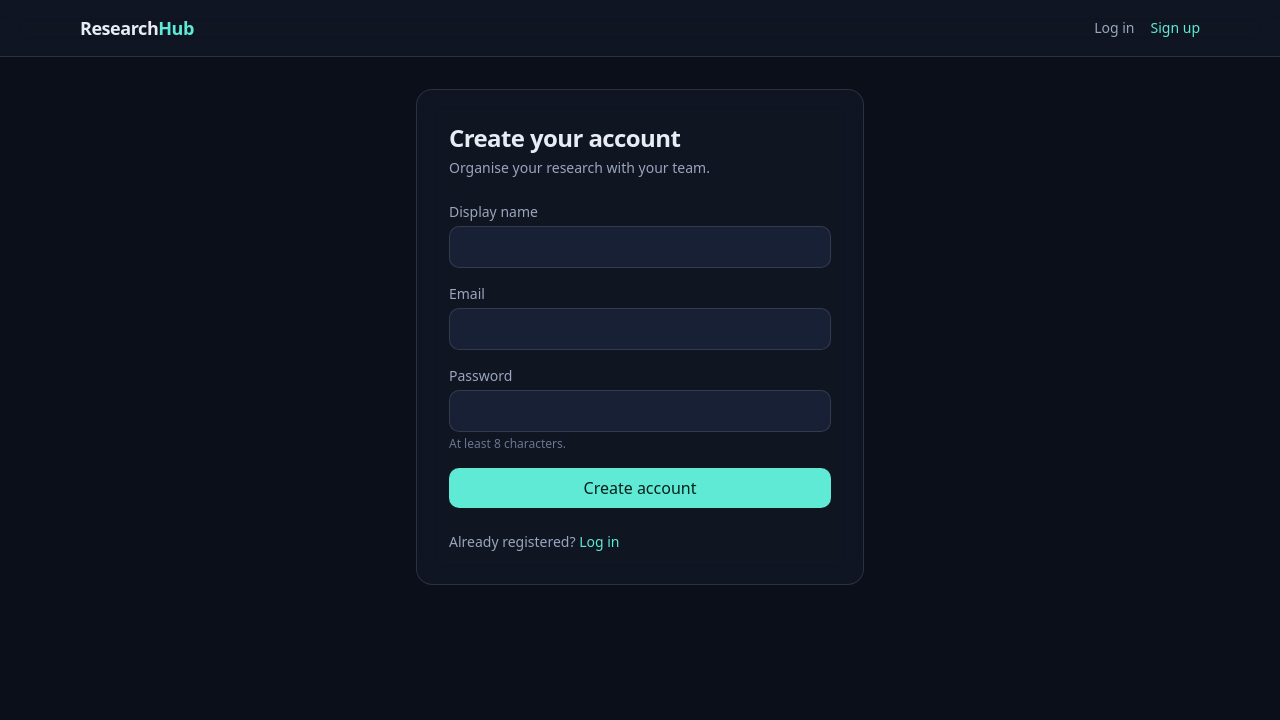
registration › shows the API field errors under the matching inputs
The image size is (1280, 720).
Step 1. Type "Ana" into the field labelled "Display name" → x=640, y=247, box [449,226,831,268]
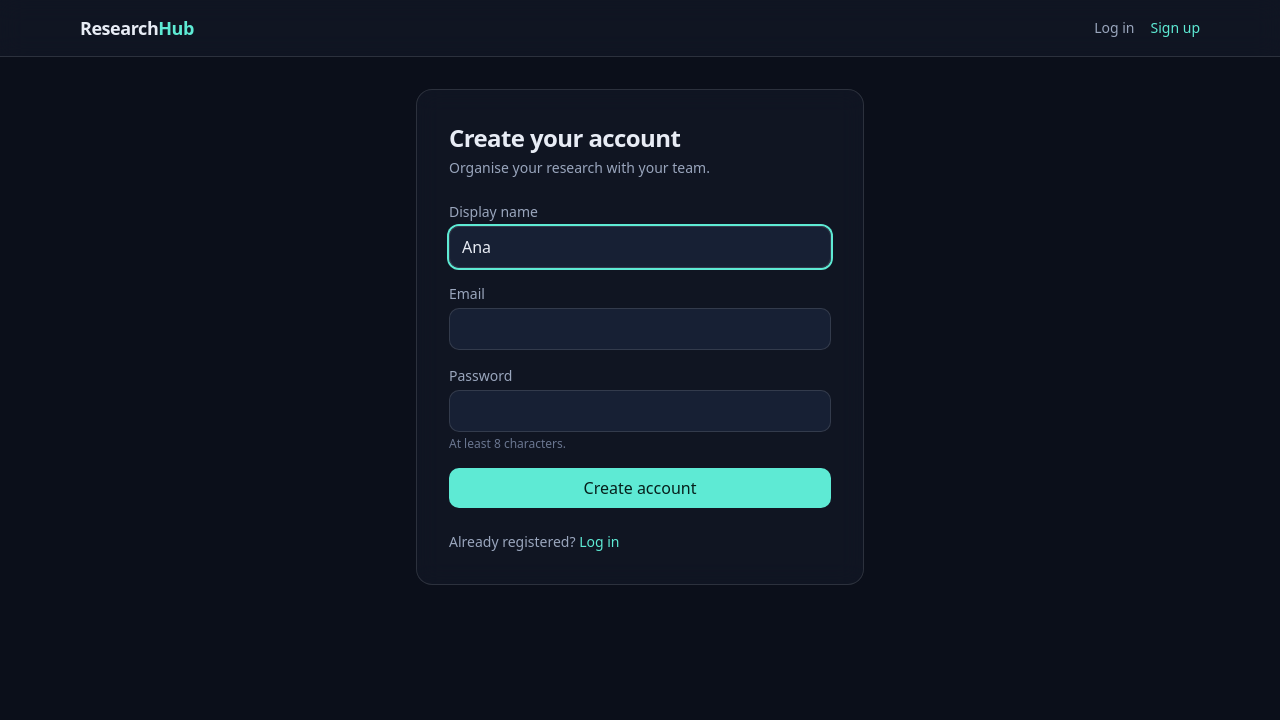
Step 2. Type "ana@example.com" into the field labelled "Email" → x=640, y=329, box [449,308,831,350]
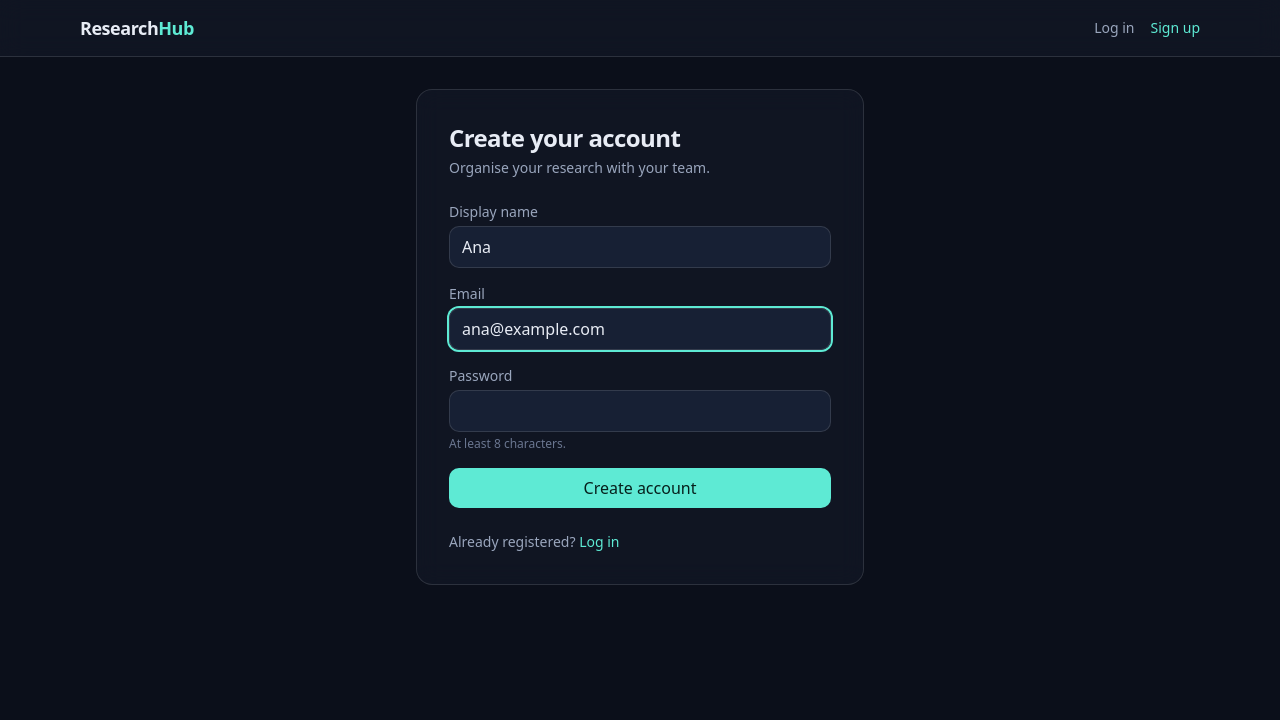
Step 3. Type "123" into the password field labelled "Password" → x=640, y=411, box [449,390,831,432]
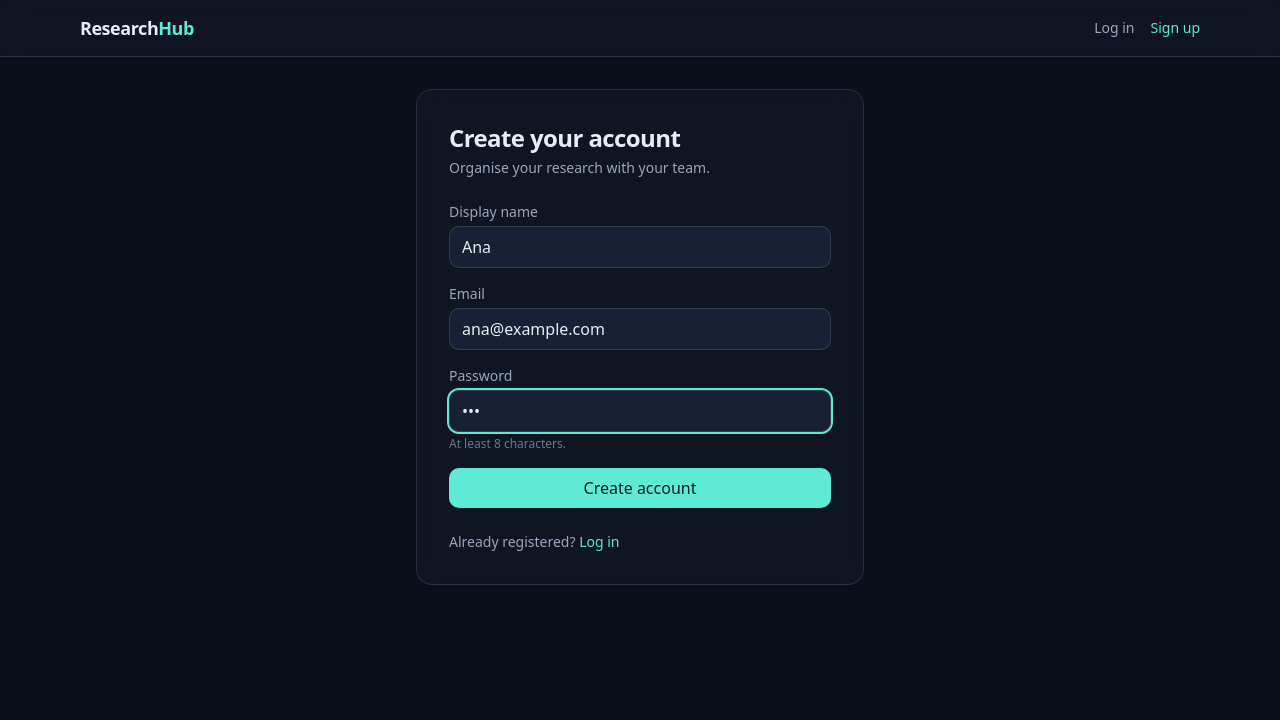
Step 4. Click the button "Create account" → x=640, y=488, box [449,468,831,508]
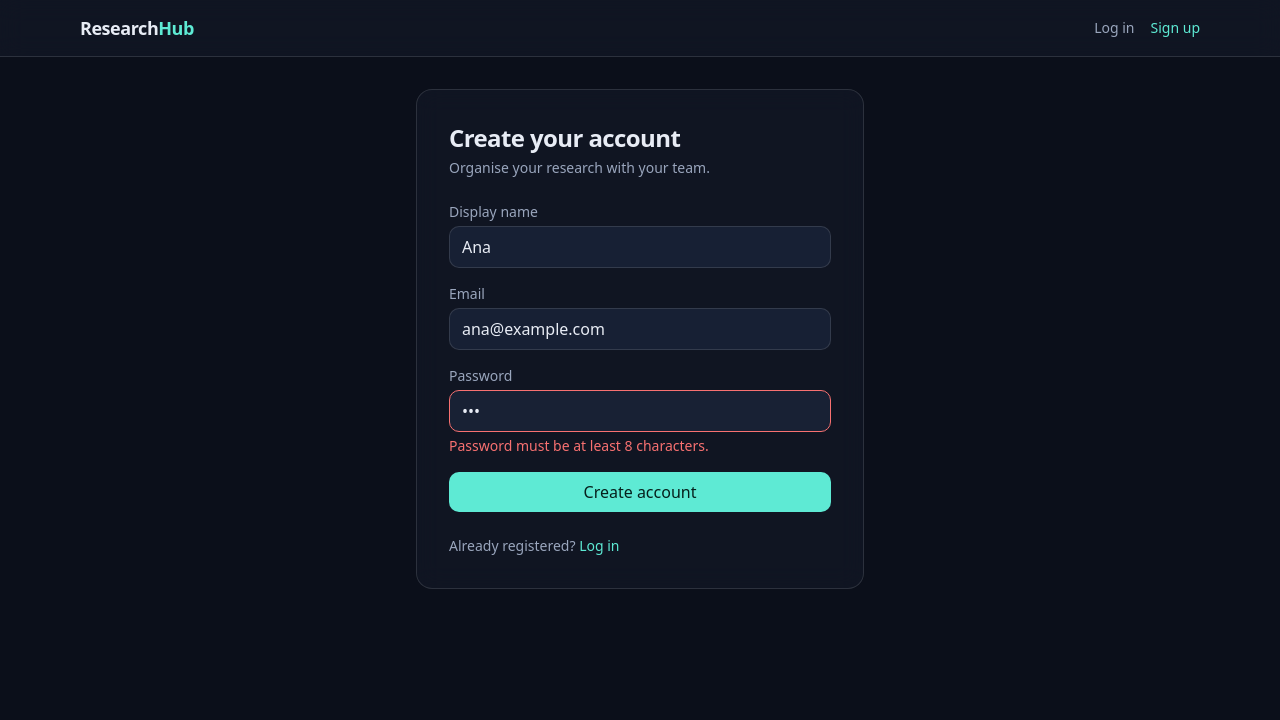
Check: the heading "Create your account" is shown, box [449,121,680,154]
Check: the text "Password must be at least 8 characters." is shown, box [449,436,709,455]
